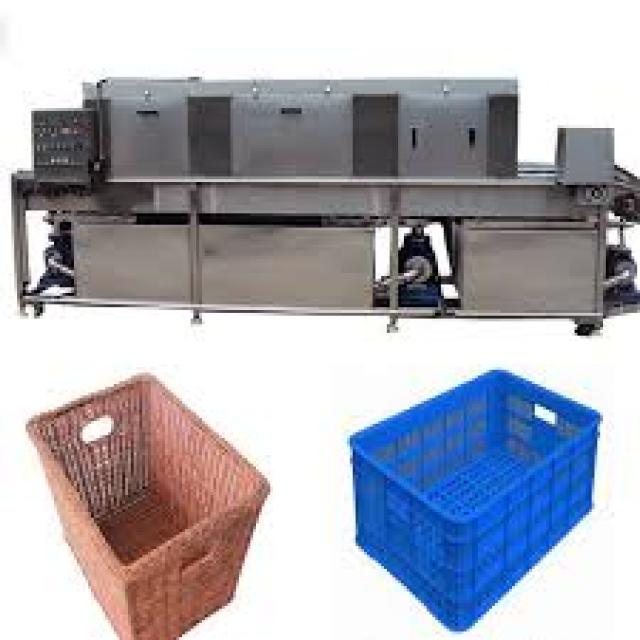basket: (15, 341, 312, 640)
